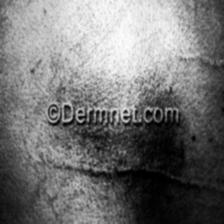Non-Cancerous Skin Condition: (47, 152, 208, 200)
